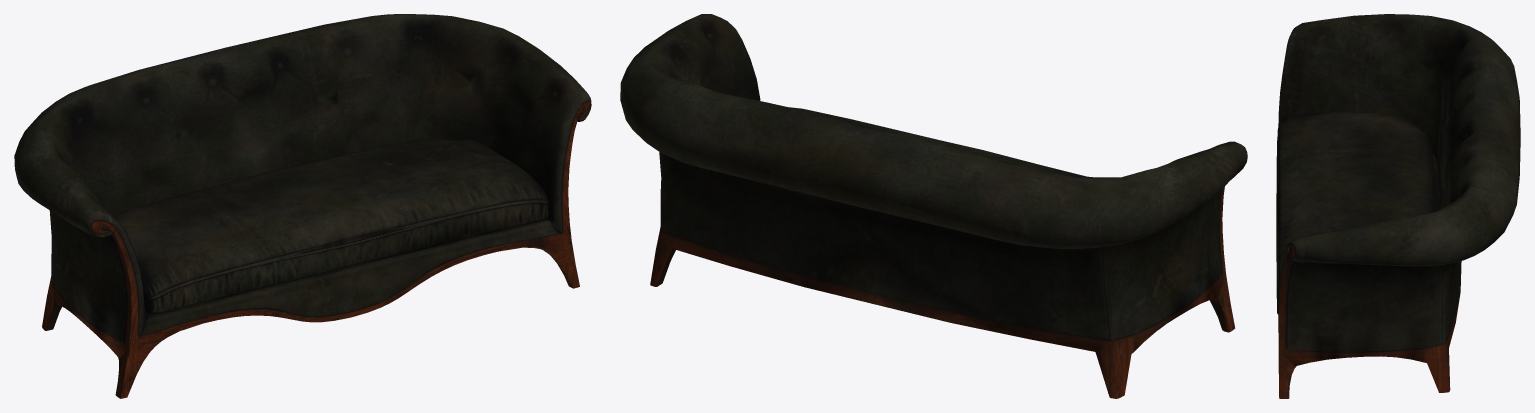
The model's file is fu_sofa_chesterfield.fbx.
3 views of the same model, side by side, from view 1: azimuth 30°, elevation 25°; view 2: azimuth 150°, elevation 25°; view 3: azimuth 270°, elevation 25° (orthographic). The views are drawn at different scales.
Parts seen in each view (by area): view 1: fu_sofa_chesterfield_LOD0; view 2: fu_sofa_chesterfield_LOD0; view 3: fu_sofa_chesterfield_LOD0.
Boxes of the visible parts, bbox=[...] form: fu_sofa_chesterfield_LOD0: bbox=[14, 14, 591, 398]; fu_sofa_chesterfield_LOD0: bbox=[620, 14, 1247, 398]; fu_sofa_chesterfield_LOD0: bbox=[1276, 14, 1520, 398].
Size of what is drawn, in the model's own units: 1.81 by 0.7095 by 0.8178.
